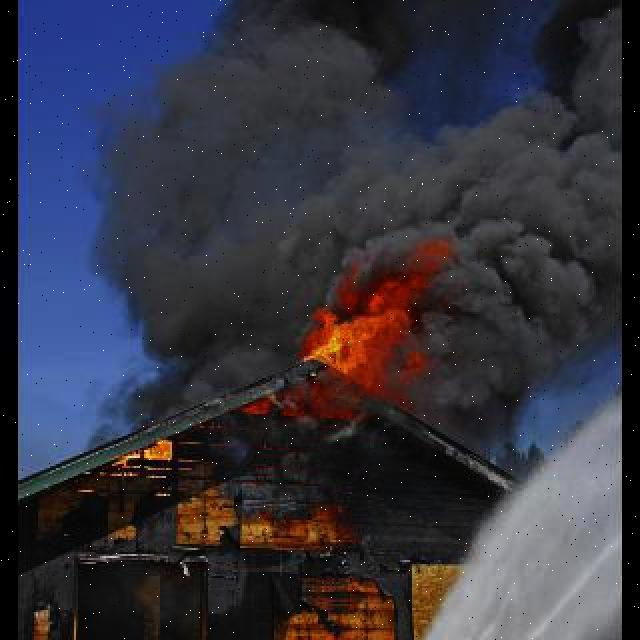fire: (309, 270, 402, 416)
smoke: (93, 3, 640, 408)
